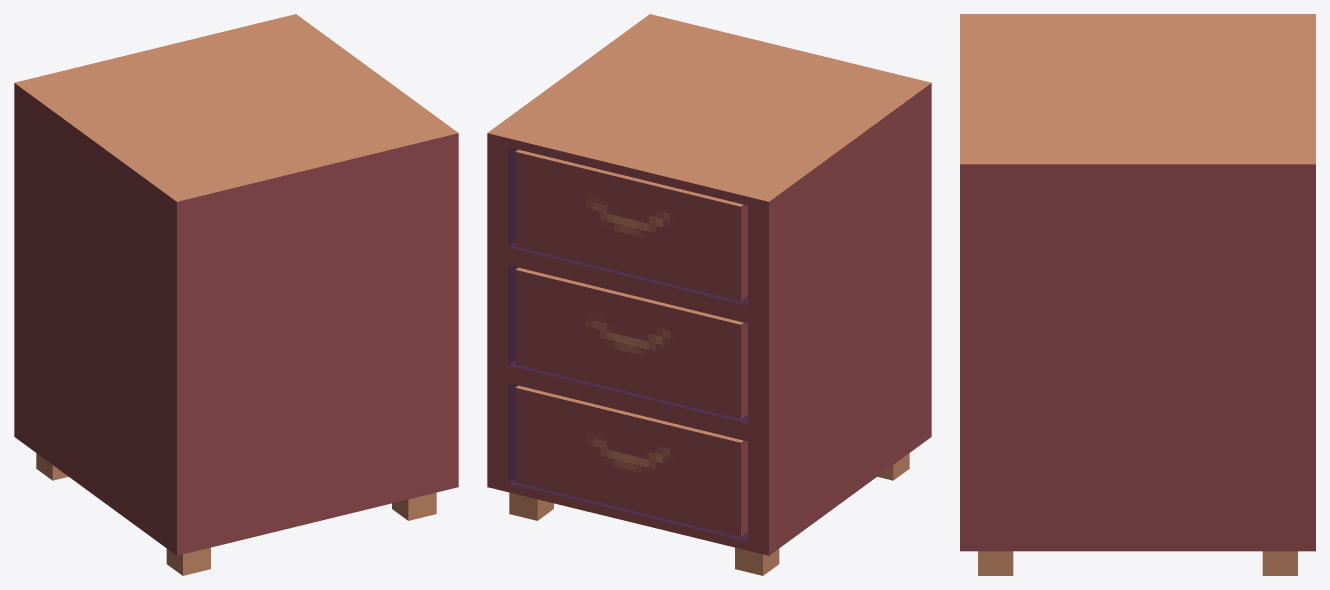
The model's file is drawer.gltf.
3 renders of one model, left to right at view 1: azimuth 30°, elevation 25°; view 2: azimuth 150°, elevation 25°; view 3: azimuth 270°, elevation 25°, orthographic. The views are drawn at different scales.
Visible parts, largest first — view 1: Base, Leg (×2); view 2: Base, DrawerTop, DrawerBottom, DrawerMiddle, Leg (×2); view 3: Base, Leg (×2).
Part boxes in pixels (x1,y1,x2,y2): Base: [14, 14, 458, 555]; Leg (×2): [166, 492, 436, 575]; Base: [487, 14, 931, 555]; DrawerTop: [515, 149, 747, 300]; DrawerBottom: [515, 385, 747, 536]; DrawerMiddle: [515, 267, 747, 418]; Leg (×2): [509, 492, 779, 575]; Base: [960, 14, 1315, 551]; Leg (×2): [978, 551, 1297, 575].
Bounding box in the file's own units: 0.625 × 0.8125 × 0.625.
3 materials, 3 textured.
